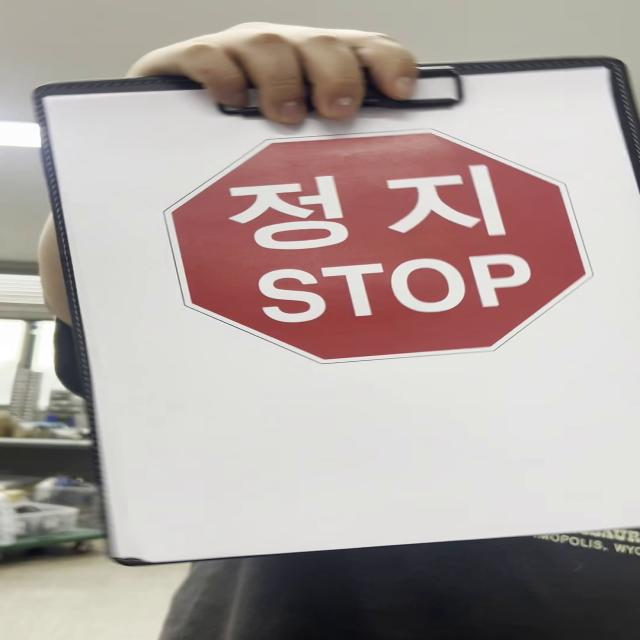stop: (161, 133, 598, 367)
